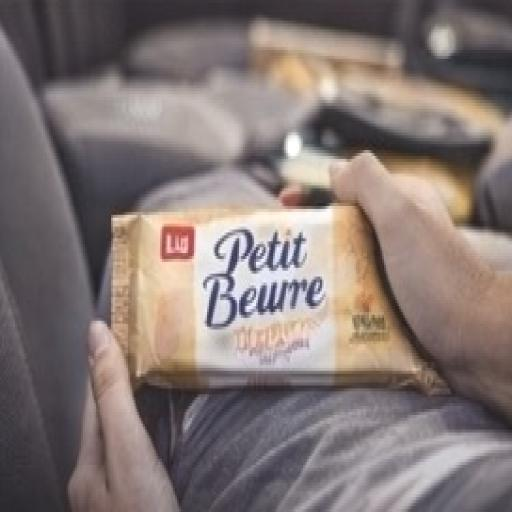petit-beurre: (87, 156, 476, 426)
